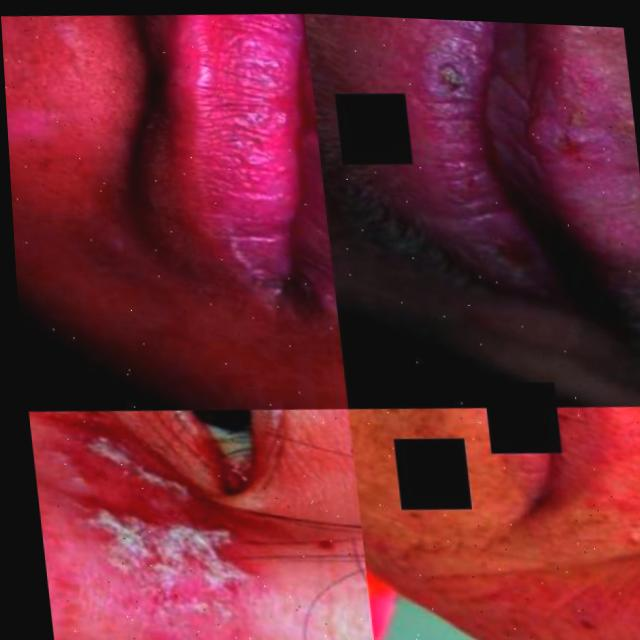lupus-detected: (97, 5, 348, 405), (28, 396, 343, 640), (354, 460, 640, 640), (519, 399, 640, 609), (502, 66, 640, 236), (381, 17, 513, 169), (455, 220, 539, 314)
